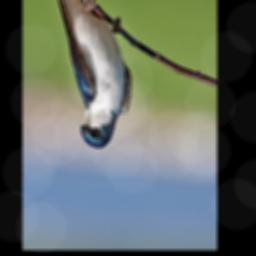Swallow: (43, 0, 132, 151)
